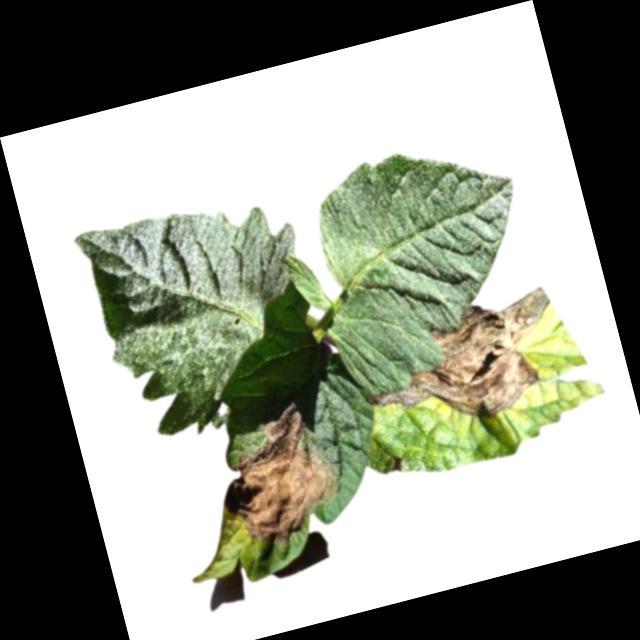Late_blight: (352, 283, 575, 448), (205, 402, 351, 560)
healthy: (72, 179, 343, 453), (292, 124, 558, 403)
